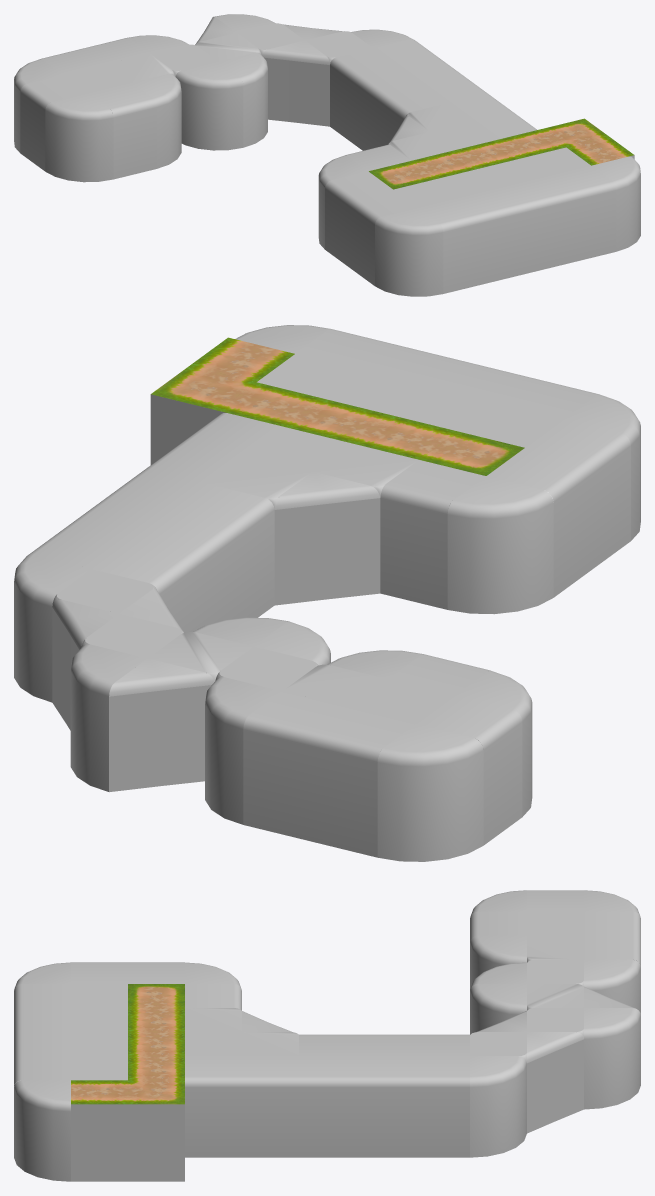
The model's file is Terrrain_Module01_3m.fbx.
3 renders of one model, top to bottom at view 1: azimuth 30°, elevation 25°; view 2: azimuth 150°, elevation 25°; view 3: azimuth 270°, elevation 25°, orthographic. The views are drawn at different scales.
Parts seen in each view (by area): view 1: TM_Grass_Corner05.010, TM_Grass_Corner05.001, TM_Grass_Corner05.007, Cube.007, TM_Grass_BasicCube01.017, TM_Grass_BasicCube01.019, TM_Grass_BasicCube01.004, TM_Grass_BasicCube01.024, TM_Grass_BasicCube01.018, TM_Grass_BasicCube01.002, TM_Grass_BasicCube01.023, TM_Grass_BasicCube01.007 (+41 smaller); view 2: TM_Grass_Corner05.002, TM_Grass_Corner05.009, Cube.011, Cube.004, TM_Grass_BasicCube01.005, TM_Grass_BasicCube01.020, TM_Grass_BasicCube01.003, TM_Grass_BasicCube01.002, TM_Grass_BasicCube01.021, TM_Grass_BasicCube01.023, TM_Grass_BasicCube01.011, TM_Grass_Corner05.006 (+41 smaller); view 3: TM_Grass_BasicCube01.006, TM_Grass_BasicCube01.008, TM_Grass_BasicCube01.010, TM_Grass_BasicCube01.012, TM_Grass_BasicCube01.013, TM_Grass_BasicCube01.026, TM_Grass_BasicCube01.027, TM_Grass_Corner05.011, TM_Grass_Corner05.008, TM_Grass_Corner05.006, Cube.005, TM_Grass_Corner05.004 (+41 smaller).
Part boxes in pixels (x1,y1,x2,y2): TM_Grass_Corner05.010: (375, 208, 443, 296); TM_Grass_Corner05.001: (45, 93, 113, 182); TM_Grass_Corner05.007: (175, 61, 243, 150); Cube.007: (262, 40, 329, 126); TM_Grass_BasicCube01.017: (419, 197, 486, 293); TM_Grass_BasicCube01.019: (505, 176, 572, 272); TM_Grass_BasicCube01.004: (89, 83, 156, 179); TM_Grass_BasicCube01.024: (548, 165, 616, 262); TM_Grass_BasicCube01.018: (462, 187, 529, 283); TM_Grass_BasicCube01.002: (20, 75, 87, 171); TM_Grass_BasicCube01.023: (350, 189, 417, 285); TM_Grass_BasicCube01.007: (330, 48, 397, 144); TM_Grass_Corner05.002: (377, 724, 483, 861); TM_Grass_Corner05.009: (447, 476, 553, 614); Cube.011: (274, 472, 380, 605); Cube.004: (109, 658, 214, 792); TM_Grass_BasicCube01.005: (243, 691, 348, 841); TM_Grass_BasicCube01.020: (380, 460, 485, 609); TM_Grass_BasicCube01.003: (310, 707, 415, 857); TM_Grass_BasicCube01.002: (417, 695, 522, 845); TM_Grass_BasicCube01.021: (486, 448, 592, 597); TM_Grass_BasicCube01.023: (525, 419, 630, 569); TM_Grass_BasicCube01.011: (169, 484, 274, 618); TM_Grass_Corner05.006: (70, 644, 147, 791); TM_Grass_BasicCube01.006: (413, 1056, 469, 1157); TM_Grass_BasicCube01.008: (356, 1056, 412, 1157); TM_Grass_BasicCube01.010: (299, 1056, 355, 1157); TM_Grass_BasicCube01.012: (242, 1056, 298, 1157); TM_Grass_BasicCube01.013: (185, 1056, 241, 1157); TM_Grass_BasicCube01.026: (71, 1080, 127, 1181); TM_Grass_BasicCube01.027: (128, 1080, 184, 1181); TM_Grass_Corner05.011: (14, 1080, 70, 1181); TM_Grass_Corner05.008: (470, 1056, 526, 1157); TM_Grass_Corner05.006: (584, 1008, 640, 1109); Cube.005: (527, 1032, 583, 1133); TM_Grass_Corner05.004: (584, 959, 640, 1013).
Size of the model in its own units: 18 by 3 by 22.
